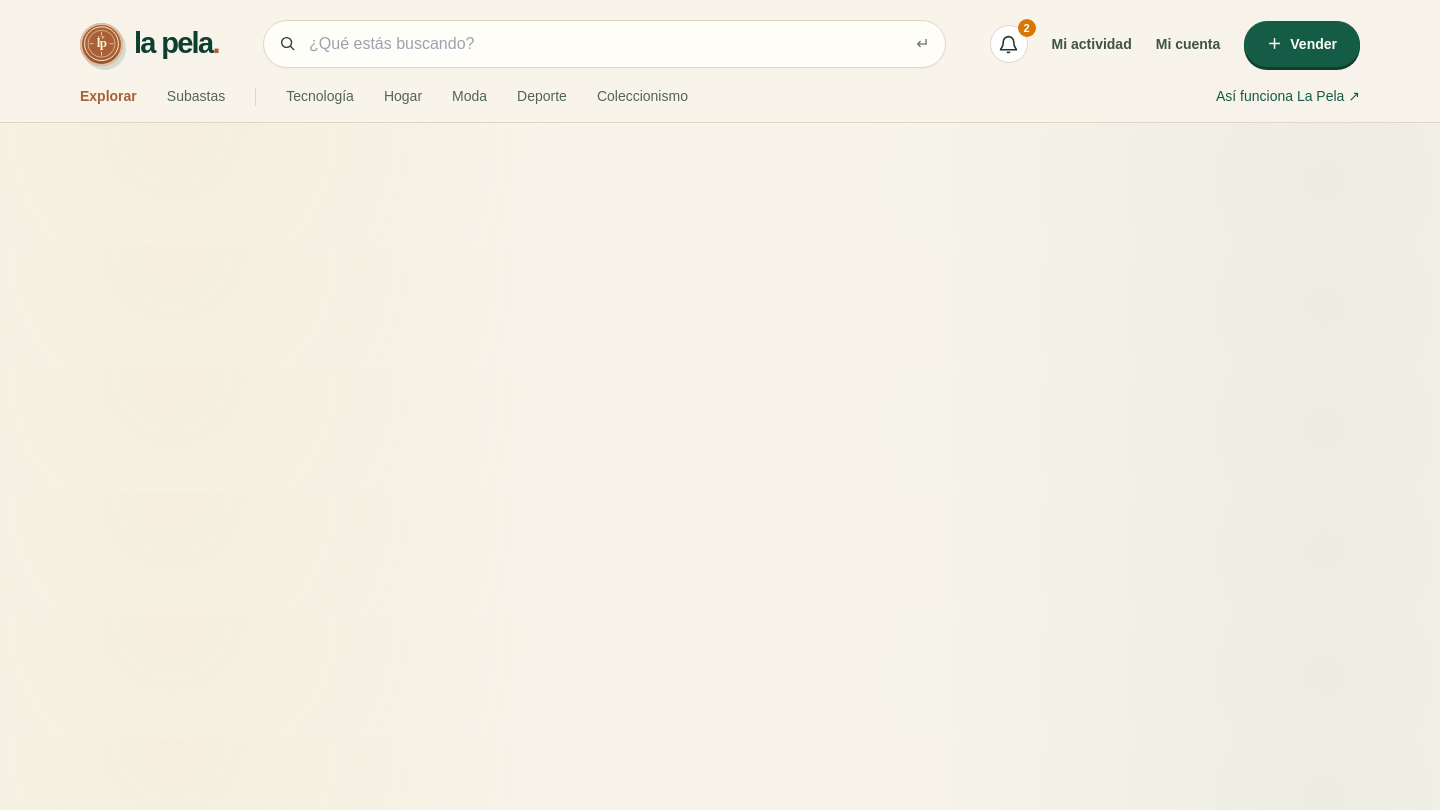
Test: Header notifications › marks only the opened notification as read, updates the badge and then opens its chat
Click the button named "2 novedades sin leer" at coordinates (1009, 44), box x1=990 y1=25 x2=1028 y2=63
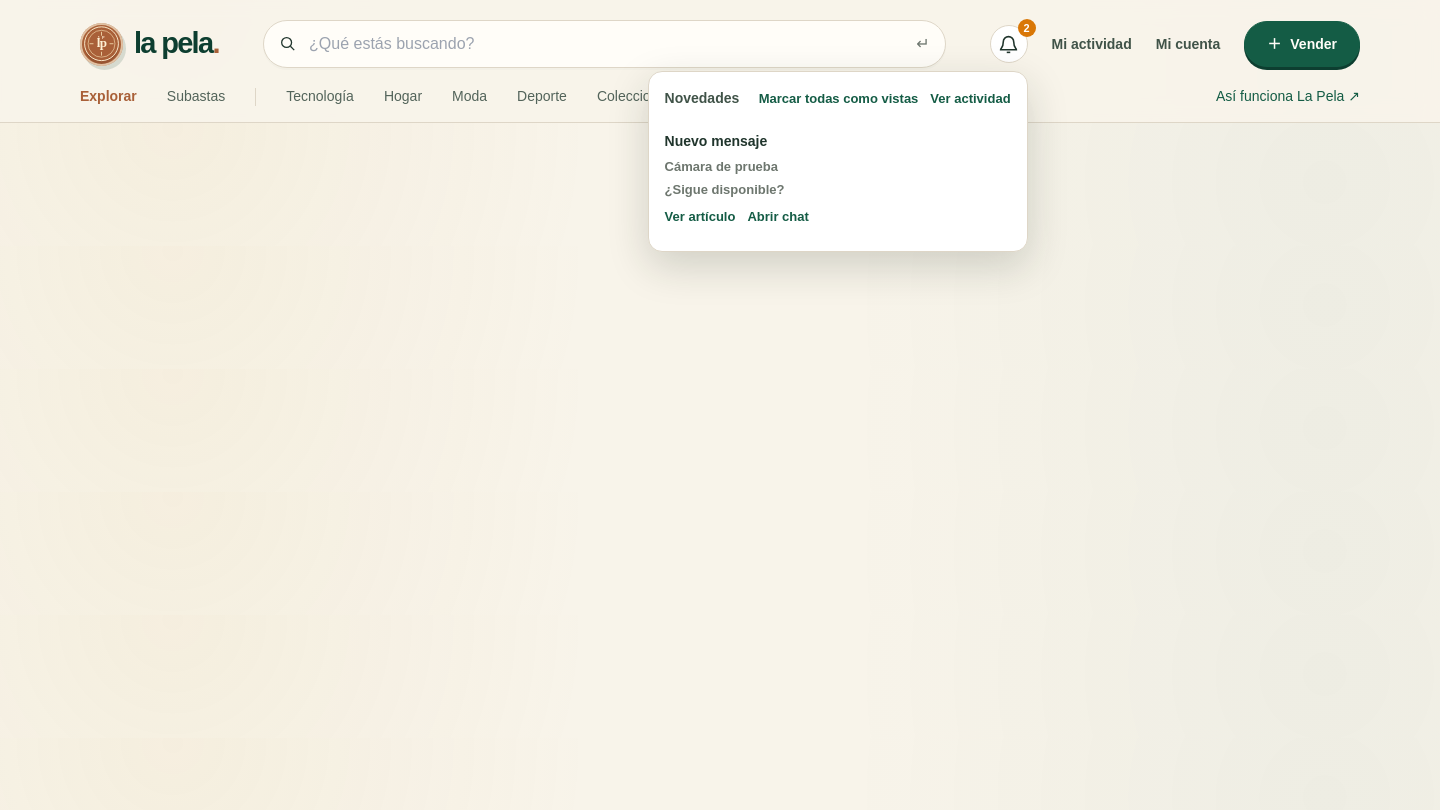
Click the link "Abrir chat" at coordinates (778, 217), box x1=747 y1=207 x2=809 y2=226
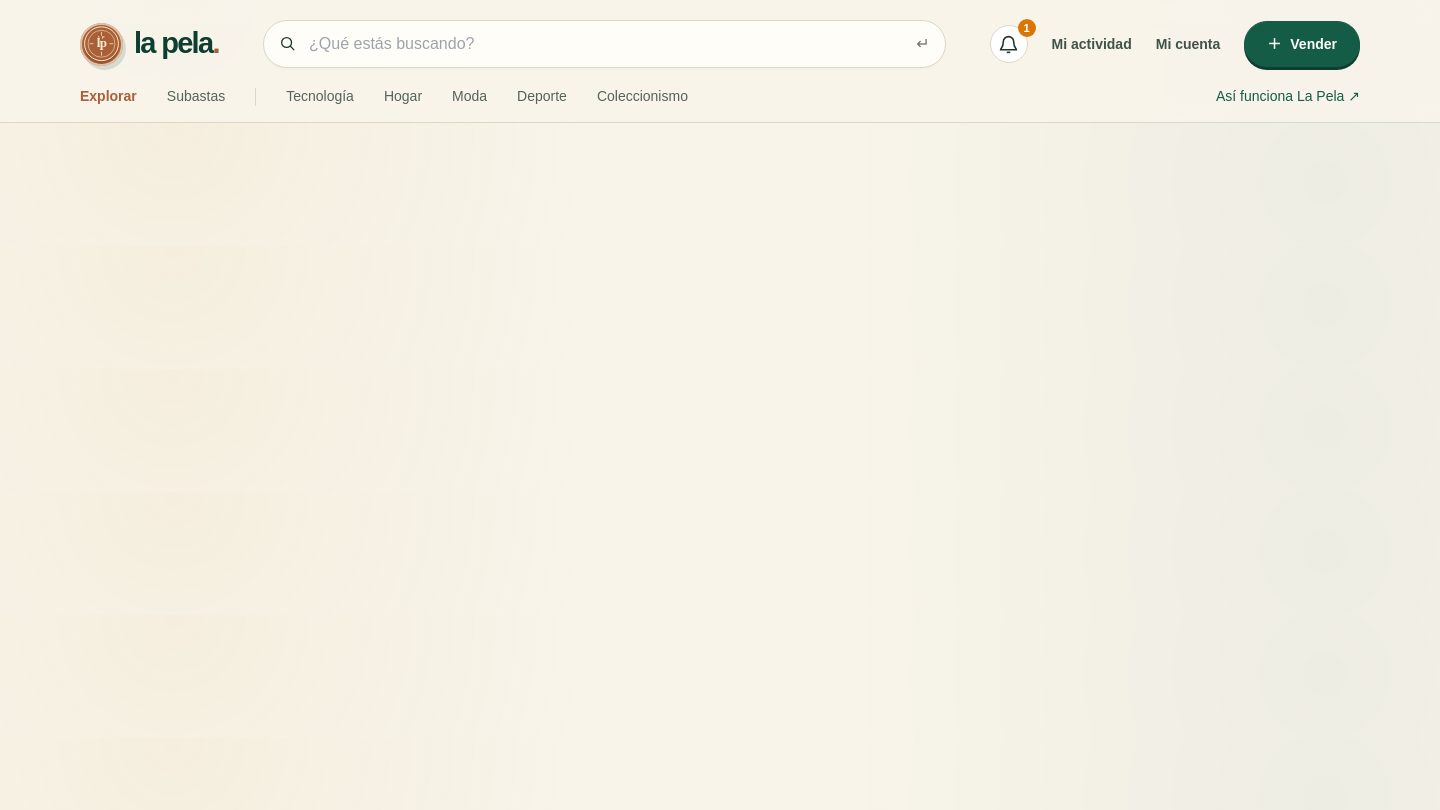
Expected: the button named "1 novedades sin leer" is shown, x1=990 y1=25 x2=1028 y2=63
